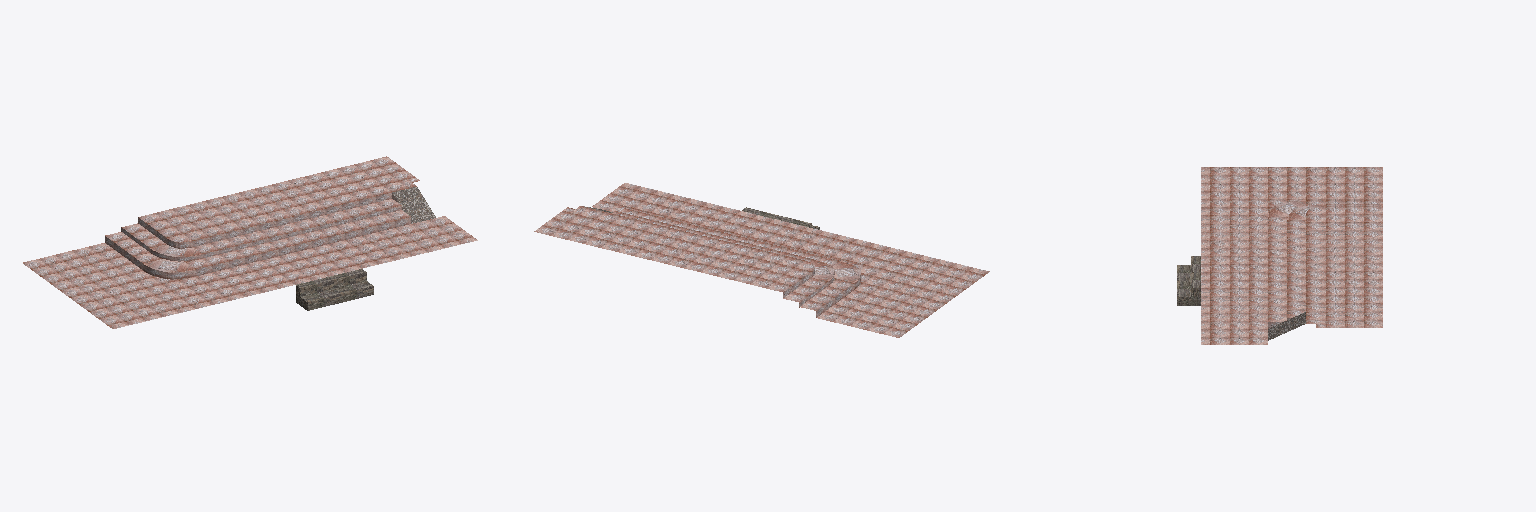
The picture shows the model from 3 angles: view 1: azimuth 30°, elevation 25°; view 2: azimuth 150°, elevation 25°; view 3: azimuth 270°, elevation 25°; orthographic projection.
Parts seen in each view (by area): view 1: pCube13; view 2: pCube13; view 3: pCube13.
Part boxes in pixels (left/top/right/bottom): pCube13: left=23, top=156, right=477, bottom=328; pCube13: left=534, top=183, right=989, bottom=337; pCube13: left=1177, top=167, right=1382, bottom=344.
Size of the model in its own units: 22 by 2 by 10.75.
122 materials, 3 textured.